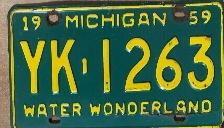1: (98, 36, 117, 95)
2: (123, 35, 155, 93)
3: (186, 33, 217, 91)
6: (153, 34, 185, 91)
K: (47, 38, 82, 94)
Y: (17, 39, 50, 95)
